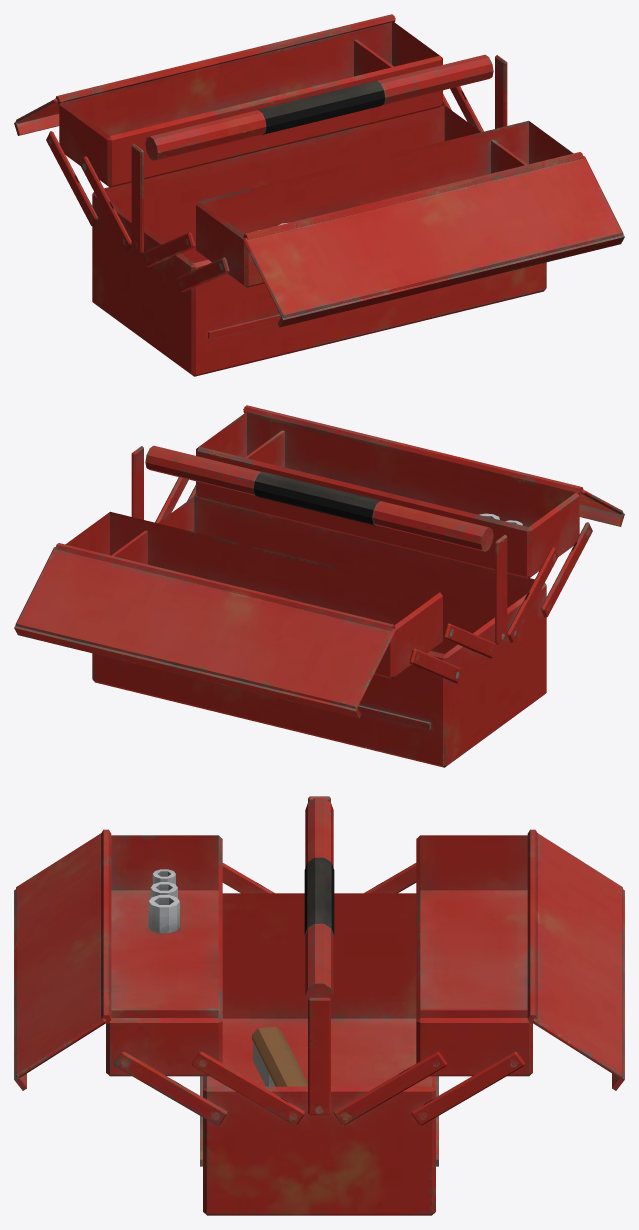
The model's file is toolbox.glb.
3 views of the same model, one above another, from view 1: azimuth 30°, elevation 25°; view 2: azimuth 150°, elevation 25°; view 3: azimuth 270°, elevation 25° (orthographic). The views are drawn at different scales.
Visible parts, largest first — view 1: toolbox; view 2: toolbox; view 3: toolbox.
Boxes of the visible parts, x1=… form: toolbox: x1=14, y1=14, x2=624, y2=376; toolbox: x1=14, y1=405, x2=624, y2=767; toolbox: x1=14, y1=796, x2=624, y2=1215.
Bounding box in the file's own units: 0.372 × 0.2009 × 0.4725.
Materials: 1 (1 with a texture image).
